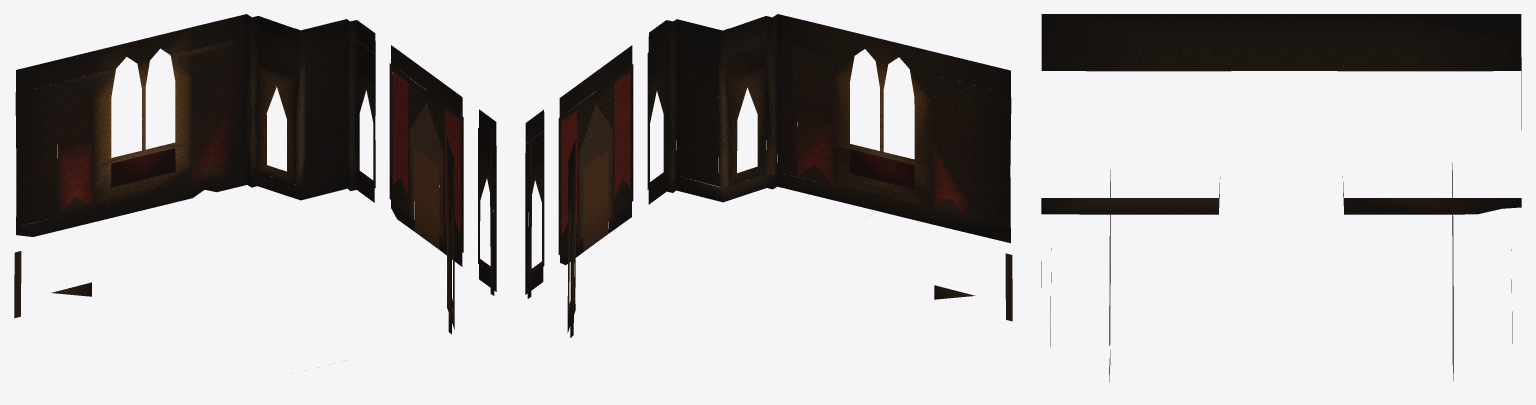
File: test-walls-nomat.glb
3 renders of one model, left to right at view 1: azimuth 30°, elevation 25°; view 2: azimuth 150°, elevation 25°; view 3: azimuth 270°, elevation 25°, orthographic. The views are drawn at different scales.
Parts seen in each view (by area): view 1: walls; view 2: walls; view 3: walls.
Part boxes in pixels (x1,y1,x2,y2): walls: [14, 14, 496, 334]; walls: [525, 14, 1012, 337]; walls: [1041, 14, 1521, 382].
Size of the model in its own units: 335 by 136 by 295.
Materials: 1 (1 with a texture image).
